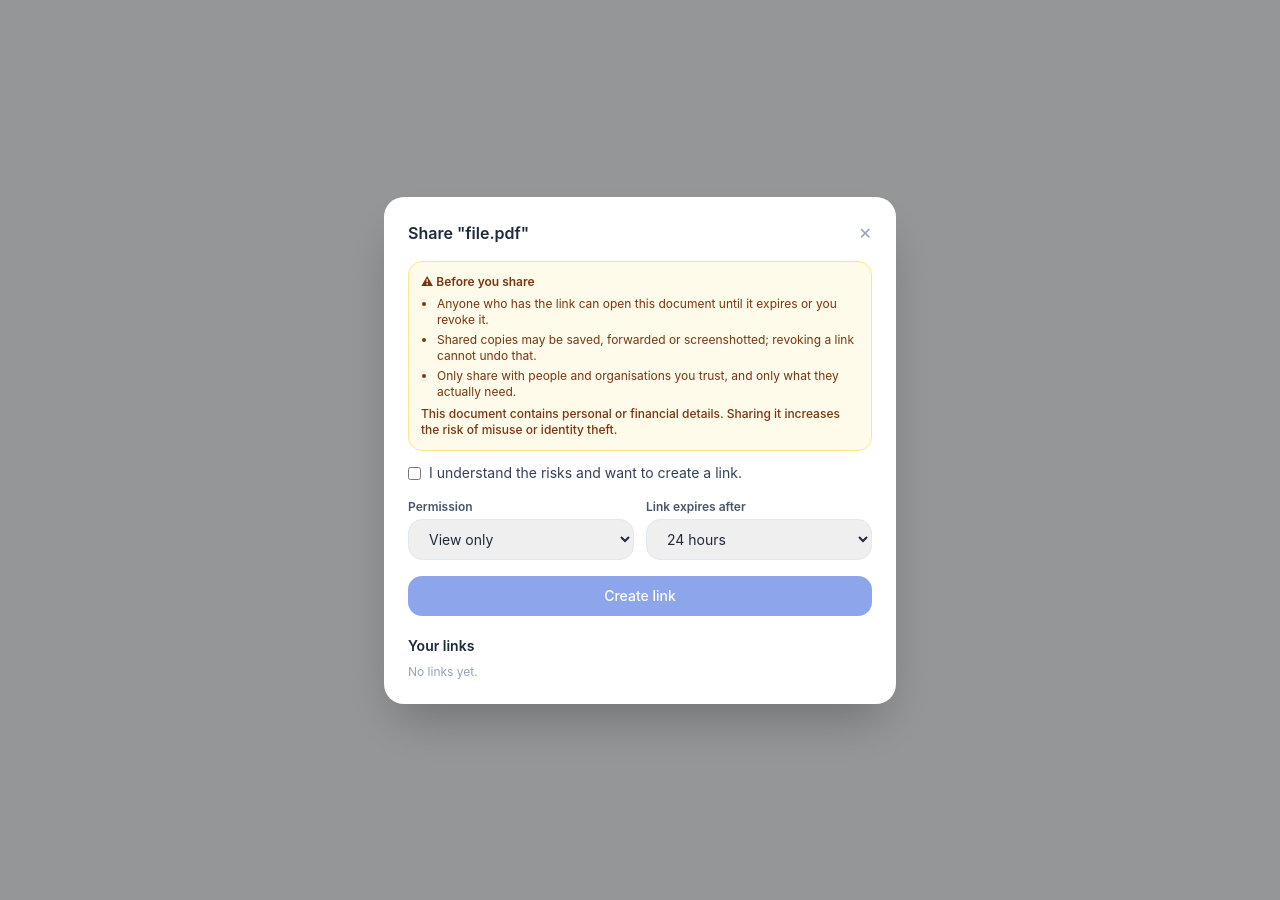
ShareDialog › requires explicit acknowledgement for sensitive document types
expect the button "Create link" is disabled: met, box [408, 576, 872, 616]
Click the checkbox: x=414, y=473 [408, 466, 421, 480]
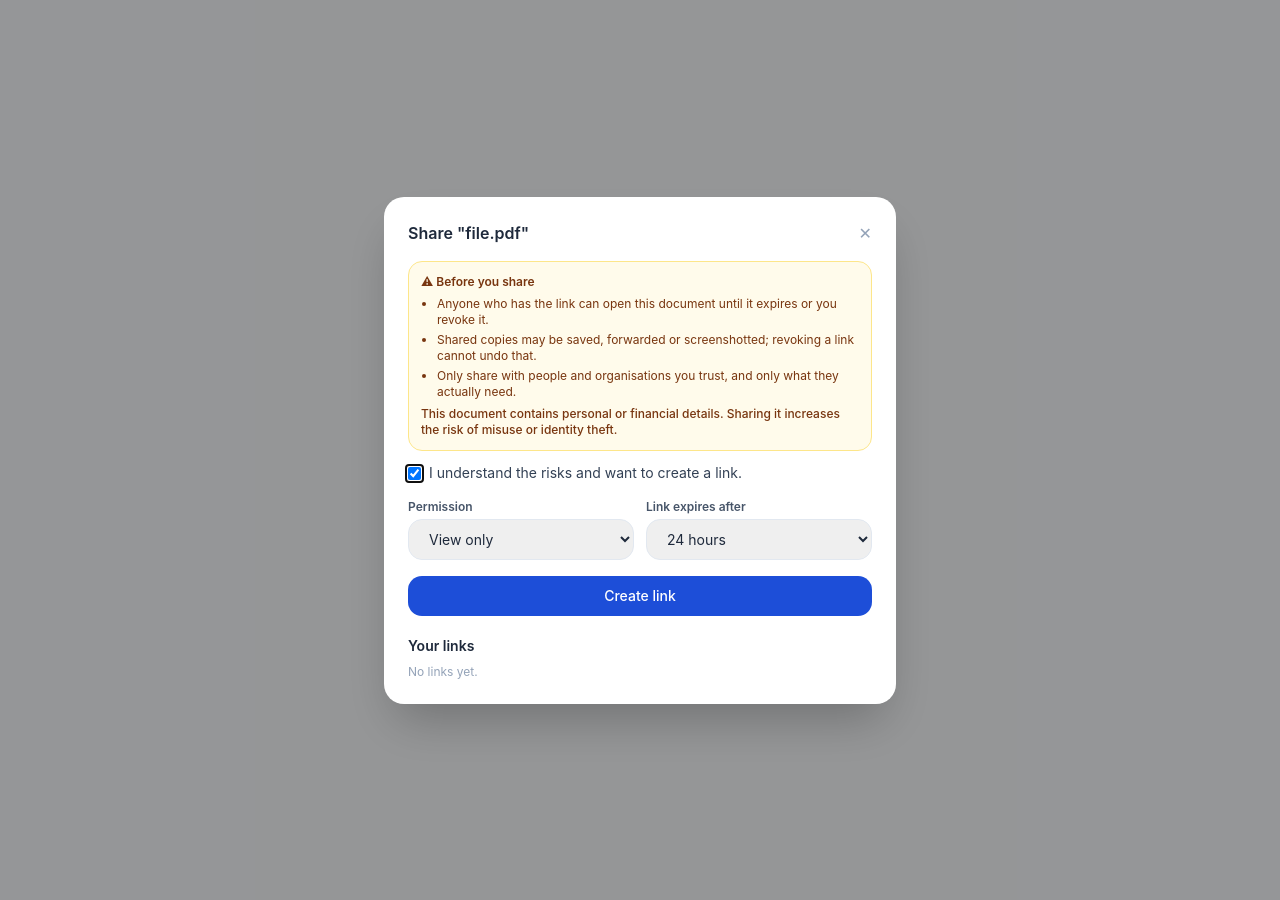
expect the button "Create link" is enabled: met, box [408, 576, 872, 616]
